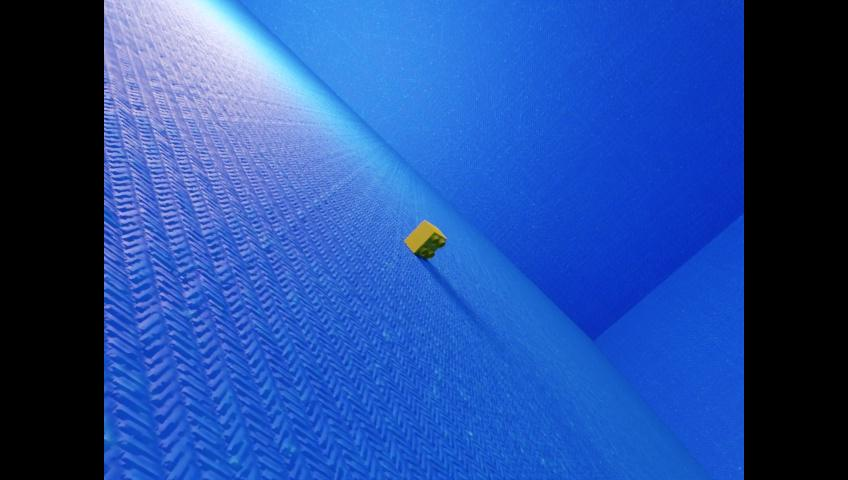2x2_yellow: (404, 219, 446, 258)
